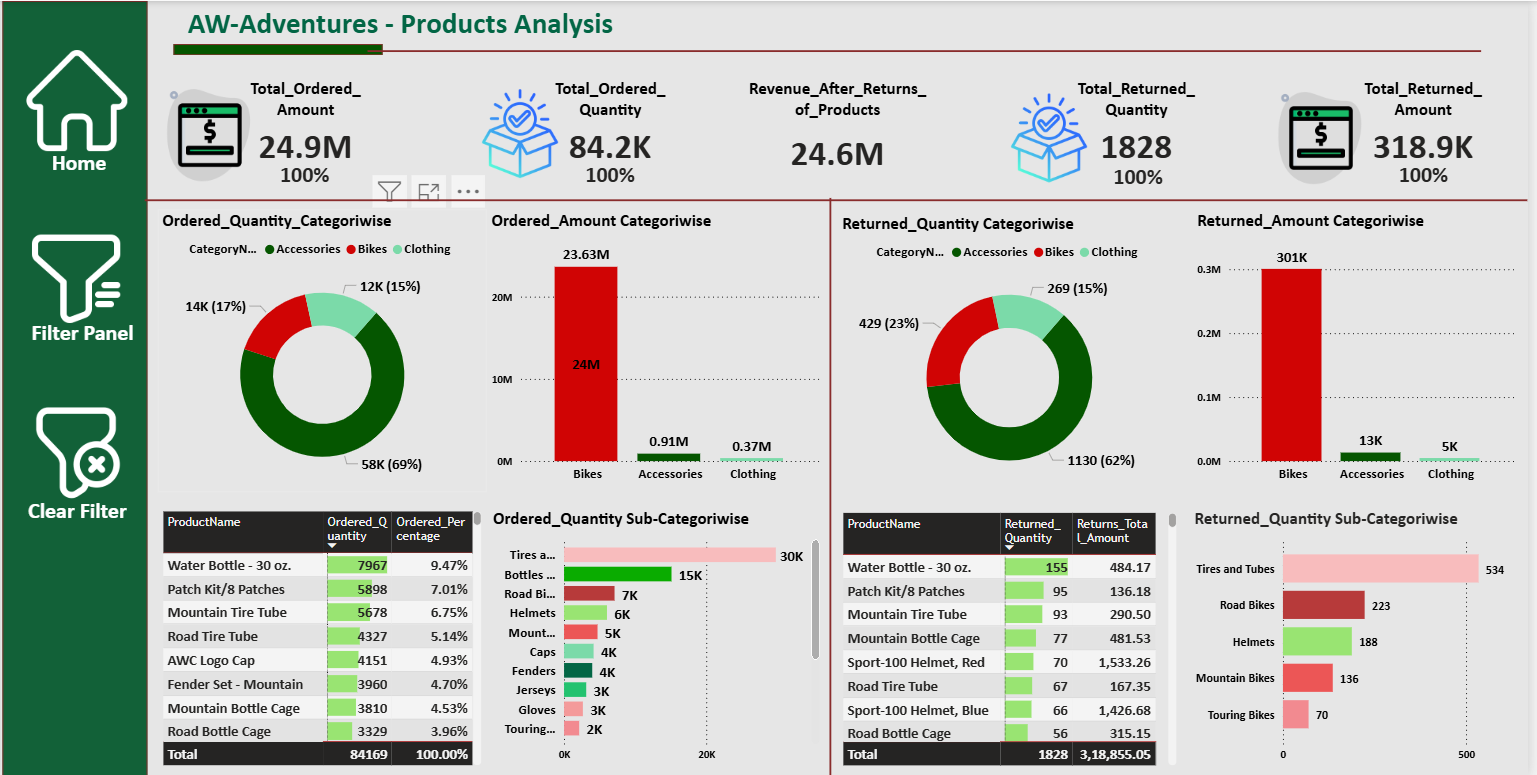

What the dashboard file says about the page in this screenshot:
{"tool":"powerbi","page":{"name":"Product_Analysis","canvas":[1671,850],"ordinal":1},"visuals":[{"type":"shape","box":[2,0,158.6,851.4],"z":0},{"type":"image","box":[16.1,433.7,132.5,120.5],"z":1000},{"type":"columnChart","title":"Returned_Amount Categoriwise","fields":{"Category":["Categories.CategoryName"],"Y":["Measures_Table.Returns_Total_Amount"],"Series":["Categories.CategoryName"]},"box":[1303,228.7,356.9,308.4],"z":2000},{"type":"image","box":[16.1,243,132.5,120.5],"z":3000},{"type":"tableEx","fields":{"Values":["Products.ProductName","Measures_Table.Returned_Quantity","Measures_Table.Returns_Total_Amount"]},"box":[914.9,554.5,376,285.9],"z":4000},{"type":"image","box":[16.1,48.2,134.5,120.5],"z":5000},{"type":"donutChart","title":" Returned_Quantity Categoriwise","fields":{"Category":["Categories.CategoryName"],"Y":["Sum(Returns.ReturnQuantity)"]},"box":[914.9,230.4,376,308.4],"z":6000},{"type":"barChart","title":"Returned_Quantity Sub-Categoriwise ","fields":{"Category":["Sub-Categories.SubcategoryName"],"Series":["Sub-Categories.SubcategoryName"],"Y":["Sum(Returns.ReturnQuantity)"]},"box":[1300.8,553.8,359.1,287.3],"z":7000},{"type":"textbox","box":[81.4,0,710.4,58.9],"z":8000},{"type":"card","title":"Total_Returned_Amount","fields":{"Values":["Measures_Table.Returns_Total_Amount"]},"box":[1481.5,83.2,149,100.5],"z":9000},{"type":"card","title":"Total_Returned_Quantity","fields":{"Values":["Measures_Table.Returned_Quantity"]},"box":[1167.8,83.2,147.3,100.5],"z":10000},{"type":"card","fields":{"Values":["Measures_Table.Percentage of Returned Amount"]},"box":[1512.7,175,86.6,31.2],"z":11000},{"type":"card","fields":{"Values":["Measures_Table.Returned_Percentage_Kpi"]},"box":[1200.8,176.7,84.9,32.9],"z":12000},{"type":"donutChart","title":"Ordered_Quantity_Categoriwise","fields":{"Category":["Categories.CategoryName"],"Y":["Measures_Table.Ordered_Qauntity"]},"box":[171.5,228.7,360.4,308.4],"z":13000},{"type":"tableEx","fields":{"Values":["Products.ProductName","Measures_Table.Ordered_Quantity","Measures_Table.Ordered_Quantity_Percentage_Matrix"]},"box":[170.8,553.8,359.1,287.3],"z":14000},{"type":"card","title":"Total_Ordered_Quantity","fields":{"Values":["Measures_Table.Ordered_Qauntity"]},"box":[601.2,83.2,131.7,100.5],"z":15000},{"type":"card","fields":{"Values":["Measures_Table.Ordered_Percentage"]},"box":[622.8,174.2,87.1,31.5],"z":16000},{"type":"barChart","title":"Ordered_Quantity Sub-Categoriwise","fields":{"Category":["Sub-Categories.SubcategoryName"],"Y":["Sum(Sales_Combined.OrderQuantity)"],"Series":["Sub-Categories.SubcategoryName"]},"box":[533.1,553.8,367.1,287.3],"z":17000},{"type":"columnChart","title":"Ordered_Amount Categoriwise","fields":{"Category":["Categories.CategoryName"],"Y":["Measures_Table.Revenue"],"Series":["Categories.CategoryName"]},"box":[531.9,228.7,369.1,308.4],"z":18000},{"type":"card","title":"Total_Ordered_Amount","fields":{"Values":["Measures_Table.Revenue"]},"box":[265.1,83.2,135.2,100.5],"z":19000},{"type":"card","fields":{"Values":["Measures_Table.Percentage of revenue"]},"box":[287.3,174.2,89,31.5],"z":20000},{"type":"shape","box":[157.7,207.9,1512.7,20.8],"z":21000},{"type":"shape","box":[899.3,214.9,15.6,635.9],"z":22000},{"type":"shape","box":[188.9,46.8,228.7,12.1],"z":23000},{"type":"textbox","box":[22.1,343.4,134.5,42.2],"z":24000},{"type":"textbox","box":[18.1,538.1,132.5,40.2],"z":25000},{"type":"textbox","box":[22.1,156.6,126.5,42.2],"z":26000},{"type":"image","box":[171.5,72.8,114.4,149],"z":27000},{"type":"image","box":[1386.2,76.2,114.4,149],"z":28000},{"type":"image","box":[514.6,76.2,107.4,138.6],"z":29000},{"type":"image","box":[1093.3,79.7,107.4,138.6],"z":30000},{"type":"shape","box":[400.3,48.5,1218.1,12.1],"z":31000}]}

Visuals, with their boxes in screenshot pixels (x1, y1, x2, y2), scaled from the page's 1671x850 canvas onto the 1537x775 screenshot:
shape: 2, 0, 148, 774
image: 15, 395, 137, 505
"Returned_Amount Categoriwise" columnChart: 1199, 209, 1527, 490
image: 15, 222, 137, 331
tableEx - Products.ProductName x Measures_Table.Returned_Quantity: 842, 506, 1187, 766
image: 15, 44, 139, 154
" Returned_Quantity Categoriwise" donutChart: 842, 210, 1187, 491
"Returned_Quantity Sub-Categoriwise " barChart: 1196, 505, 1527, 767
textbox: 75, 0, 728, 54
"Total_Returned_Amount" card: 1363, 76, 1500, 167
"Total_Returned_Quantity" card: 1074, 76, 1210, 167
card - Measures_Table.Percentage of Returned Amount: 1391, 160, 1471, 188
card - Measures_Table.Returned_Percentage_Kpi: 1105, 161, 1183, 191
"Ordered_Quantity_Categoriwise" donutChart: 158, 209, 489, 490
tableEx - Products.ProductName x Measures_Table.Ordered_Quantity: 157, 505, 487, 767
"Total_Ordered_Quantity" card: 553, 76, 674, 167
card - Measures_Table.Ordered_Percentage: 573, 159, 653, 188
"Ordered_Quantity Sub-Categoriwise" barChart: 490, 505, 828, 767
"Ordered_Amount Categoriwise" columnChart: 489, 209, 829, 490
"Total_Ordered_Amount" card: 244, 76, 368, 167
card - Measures_Table.Percentage of revenue: 264, 159, 346, 188
shape: 145, 190, 1536, 209
shape: 827, 196, 842, 774
shape: 174, 43, 384, 54
textbox: 20, 313, 144, 352
textbox: 17, 491, 139, 527
textbox: 20, 143, 137, 181
image: 158, 66, 263, 202
image: 1275, 69, 1380, 205
image: 473, 69, 572, 196
image: 1006, 73, 1104, 199
shape: 368, 44, 1489, 55
